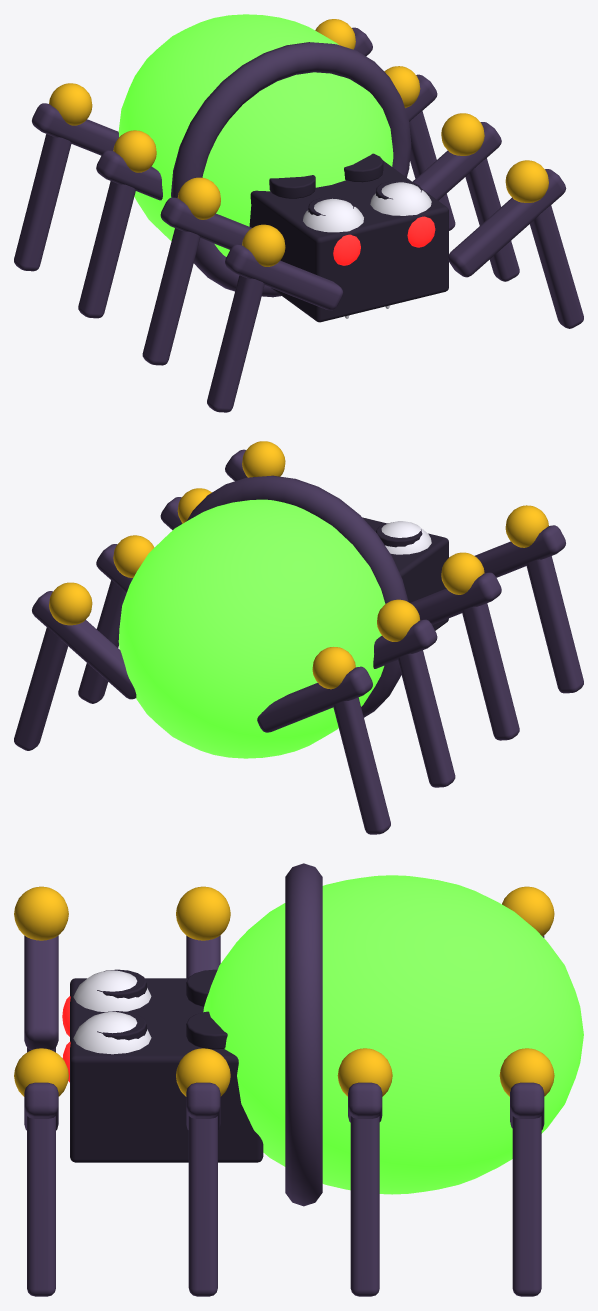
File: spider.glb
3 views of the same model, one above another, from view 1: azimuth 30°, elevation 25°; view 2: azimuth 150°, elevation 25°; view 3: azimuth 270°, elevation 25° (orthographic). The views are drawn at different scales.
Visible parts, largest first — view 1: spBodyMesh, legMeshR0, legMeshL0, legMeshL1, legMeshL3, legMeshL2, legMeshR1, legMeshR2, legMeshR3; view 2: spBodyMesh, legMeshL3, legMeshR3, legMeshL1, legMeshL0, legMeshL2, legMeshR2, legMeshR0, legMeshR1; view 3: spBodyMesh, legMeshR1, legMeshR3, legMeshR2, legMeshR0, legMeshL0, legMeshL1, legMeshL3.
Boxes of the visible parts, x1,y1,x2,y2 form: spBodyMesh: (118, 14, 448, 322); legMeshR0: (448, 160, 583, 328); legMeshL0: (207, 224, 343, 412); legMeshL1: (142, 177, 251, 365); legMeshL3: (14, 83, 118, 271); legMeshL2: (78, 130, 162, 318); legMeshR1: (412, 113, 519, 281); legMeshR2: (384, 66, 455, 230); legMeshR3: (315, 19, 372, 56); spBodyMesh: (118, 475, 448, 758); legMeshL3: (257, 647, 390, 834); legMeshR3: (14, 582, 136, 750); legMeshL1: (410, 552, 519, 740); legMeshL0: (475, 505, 583, 693); legMeshL2: (373, 599, 455, 787); legMeshR2: (78, 535, 154, 703); legMeshR0: (225, 441, 285, 481); legMeshR1: (160, 488, 211, 530); spBodyMesh: (62, 863, 583, 1206); legMeshR1: (176, 1048, 230, 1296); legMeshR3: (499, 1048, 554, 1296); legMeshR2: (337, 1048, 392, 1296); legMeshR0: (14, 1048, 68, 1296); legMeshL0: (14, 886, 68, 1052); legMeshL1: (176, 886, 230, 978); legMeshL3: (502, 886, 554, 937).
Bounding box in the file's own units: 1.1 × 0.7 × 1.16.
